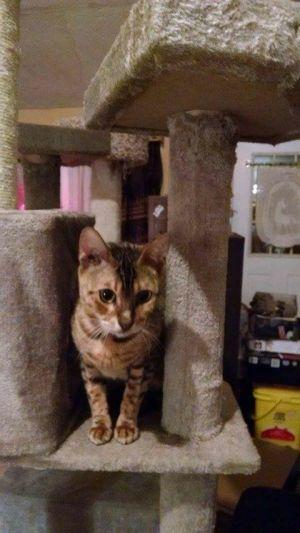bengal: (70, 221, 183, 349)
